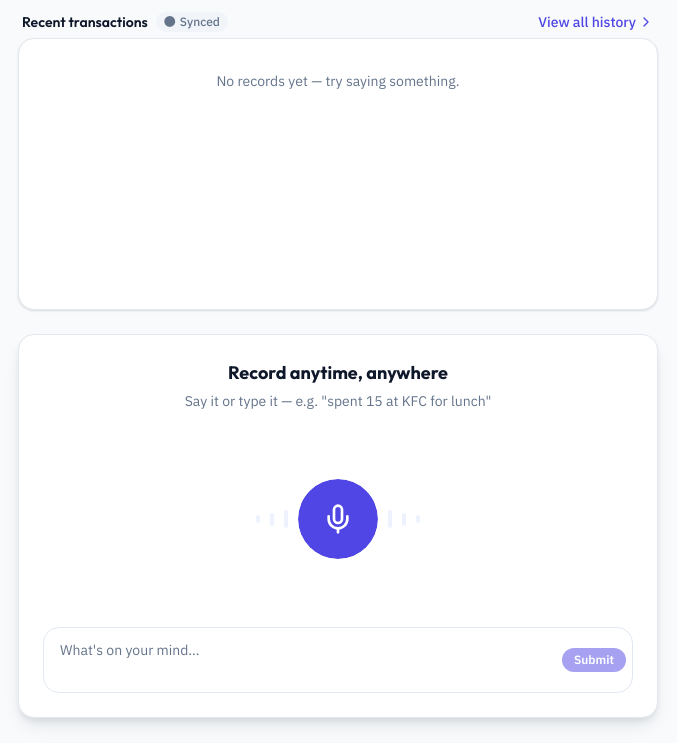
Scenario: 主屏 · 已登录时的网络状态 › 在线时提交行为不变（回归：网络状态判断不影响既有的正常提交路径）
Type "早餐25" into the text box at x=307, y=660, box x1=60 y1=634 x2=554 y2=686
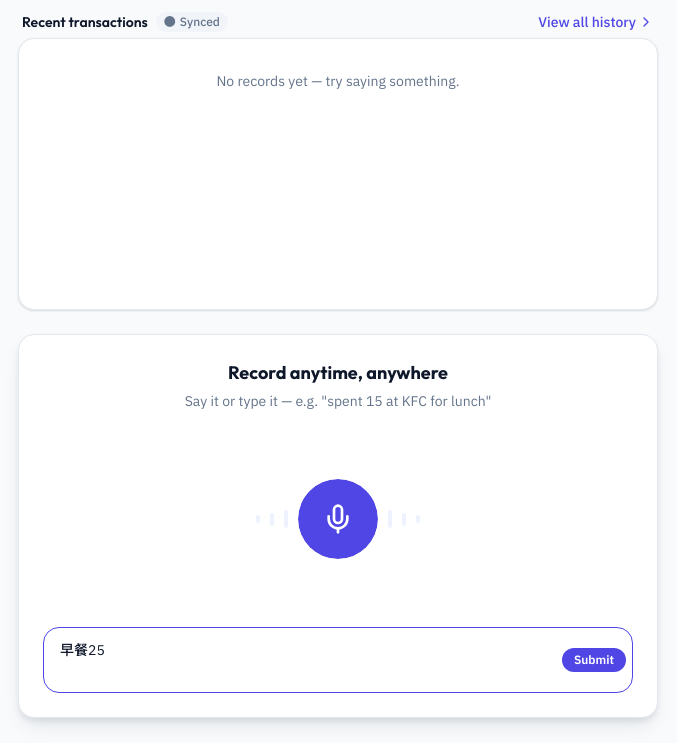
Click the button "Submit" at x=594, y=660, box x1=562 y1=648 x2=626 y2=672
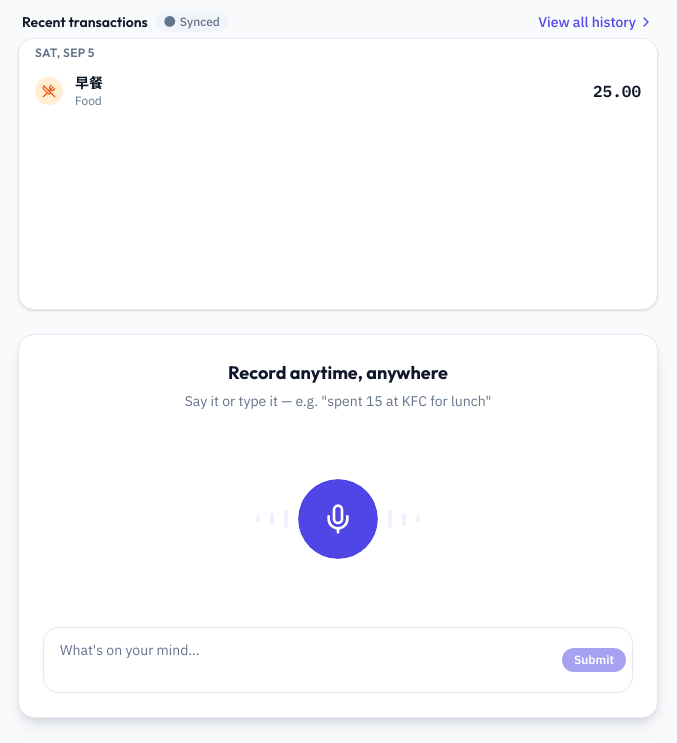
Result: the text "25.00" is shown at x1=593 y1=79 x2=641 y2=103
